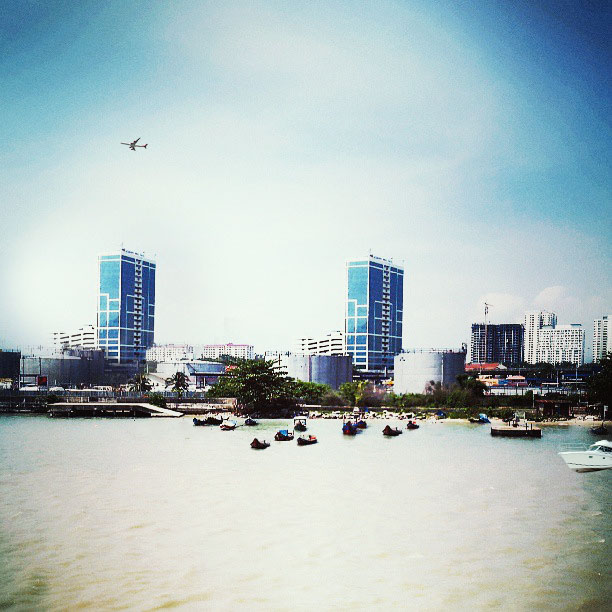copymove: (48, 240, 157, 365)
removal: (174, 430, 245, 452)
spliced: (118, 136, 151, 155)
